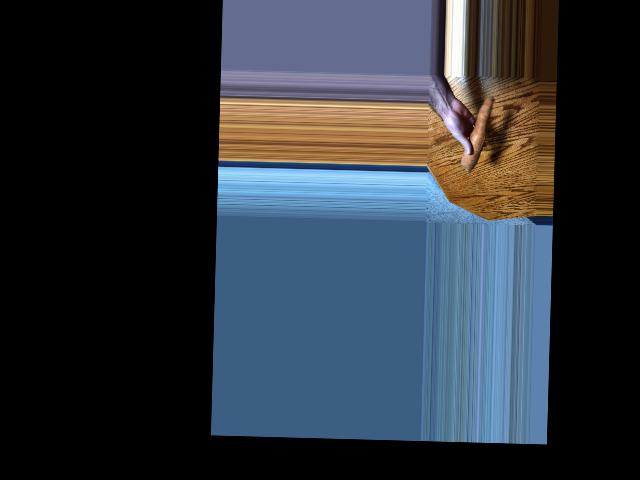sweet_potato: (465, 91, 488, 170)
